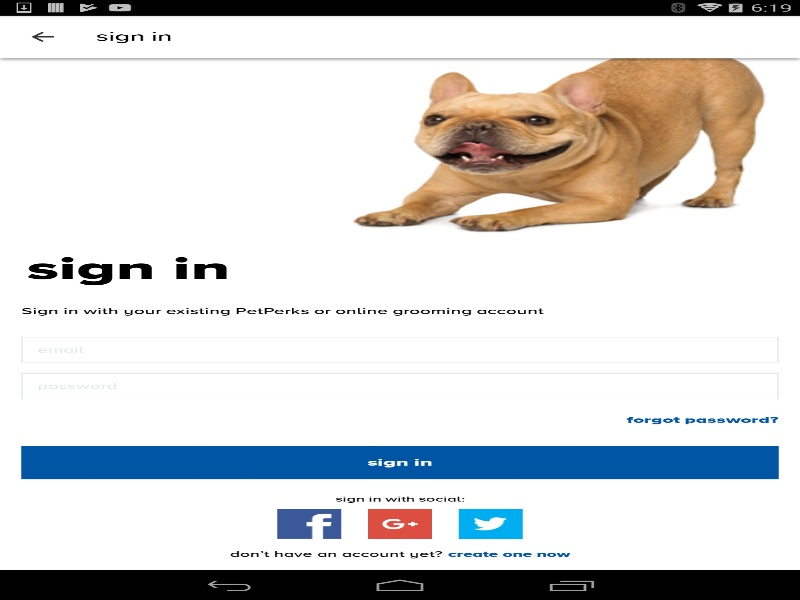Input: (21, 336, 778, 363), (21, 373, 778, 399)
